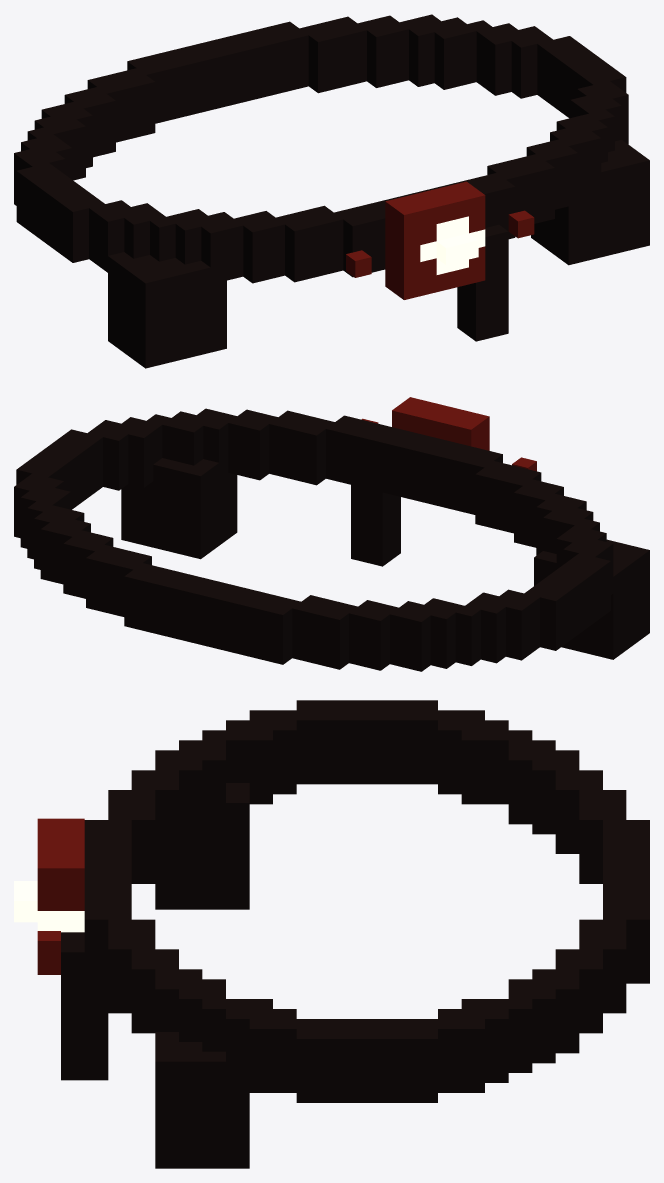
File: cloth_masterwork_belt.glb
The picture shows the model from 3 angles, top to bottom: view 1: azimuth 30°, elevation 25°; view 2: azimuth 150°, elevation 25°; view 3: azimuth 270°, elevation 25°; orthographic projection. The views are drawn at different scales.
Visible parts, largest first — view 1: cloth_masterwork_belt; view 2: cloth_masterwork_belt; view 3: cloth_masterwork_belt.
Boxes of the visible parts, bbox=[...] form: cloth_masterwork_belt: bbox=[14, 14, 649, 368]; cloth_masterwork_belt: bbox=[14, 397, 649, 671]; cloth_masterwork_belt: bbox=[14, 700, 649, 1168].
Size of the model in its own units: 0.408 by 0.108 by 0.324.
